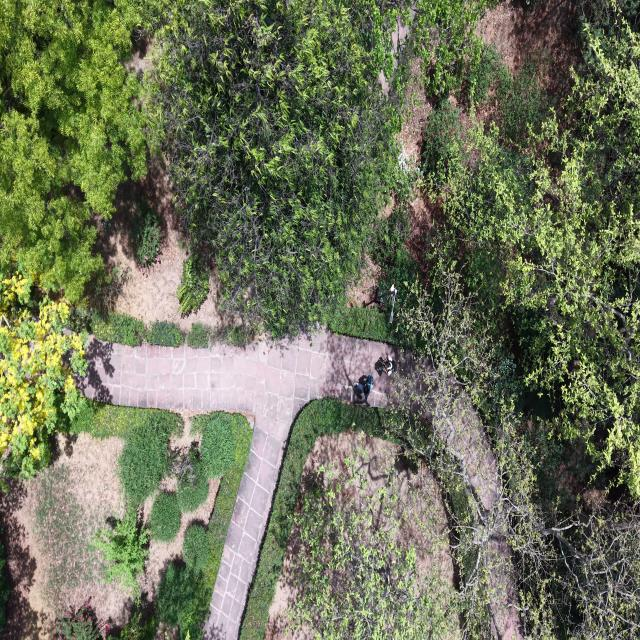DRY_AREA: (81, 332, 398, 639), (84, 333, 394, 639), (85, 334, 392, 638), (391, 353, 523, 639), (80, 332, 397, 439), (0, 433, 134, 639), (299, 431, 454, 609), (0, 434, 132, 639), (94, 159, 228, 330), (432, 395, 523, 639), (16, 434, 128, 627), (96, 160, 221, 330), (435, 398, 522, 639), (436, 398, 522, 639), (475, 0, 582, 117), (115, 227, 221, 330), (476, 0, 580, 97), (140, 479, 219, 600), (397, 59, 432, 171), (399, 59, 432, 168)
PATHWAYS: (82, 333, 395, 639)
VEGETATION_TREE: (0, 0, 639, 639), (0, 0, 486, 333), (0, 0, 486, 332), (391, 11, 639, 638), (395, 17, 638, 637), (149, 0, 491, 335), (423, 19, 639, 496), (388, 277, 639, 638), (153, 0, 399, 334), (426, 118, 639, 494), (0, 0, 147, 477), (387, 270, 541, 638), (240, 399, 458, 639), (503, 130, 639, 496), (430, 424, 639, 639), (0, 0, 146, 302), (240, 399, 384, 639), (122, 413, 251, 639), (287, 470, 458, 639), (72, 401, 208, 579), (74, 403, 247, 541), (395, 270, 517, 455), (18, 448, 148, 617), (156, 413, 251, 639), (0, 266, 86, 477), (328, 159, 422, 348), (512, 502, 639, 639), (570, 4, 639, 208), (29, 464, 112, 612), (355, 170, 421, 348), (193, 413, 252, 588), (2, 274, 79, 399), (457, 44, 551, 146), (408, 0, 496, 101), (119, 412, 175, 505), (92, 507, 149, 597), (70, 399, 183, 438), (67, 309, 185, 346), (497, 63, 543, 145), (157, 563, 206, 638), (421, 104, 466, 180), (459, 43, 510, 107), (171, 446, 209, 512), (197, 413, 235, 478), (329, 307, 394, 343), (175, 320, 257, 348), (79, 313, 146, 346), (86, 266, 131, 314), (177, 249, 209, 315), (132, 201, 163, 268), (53, 602, 104, 639), (582, 0, 637, 33), (148, 492, 181, 541), (177, 465, 209, 512), (183, 524, 210, 574), (169, 443, 199, 485), (120, 611, 156, 639), (215, 322, 257, 346), (146, 321, 184, 346), (0, 544, 10, 631), (186, 323, 211, 348)
